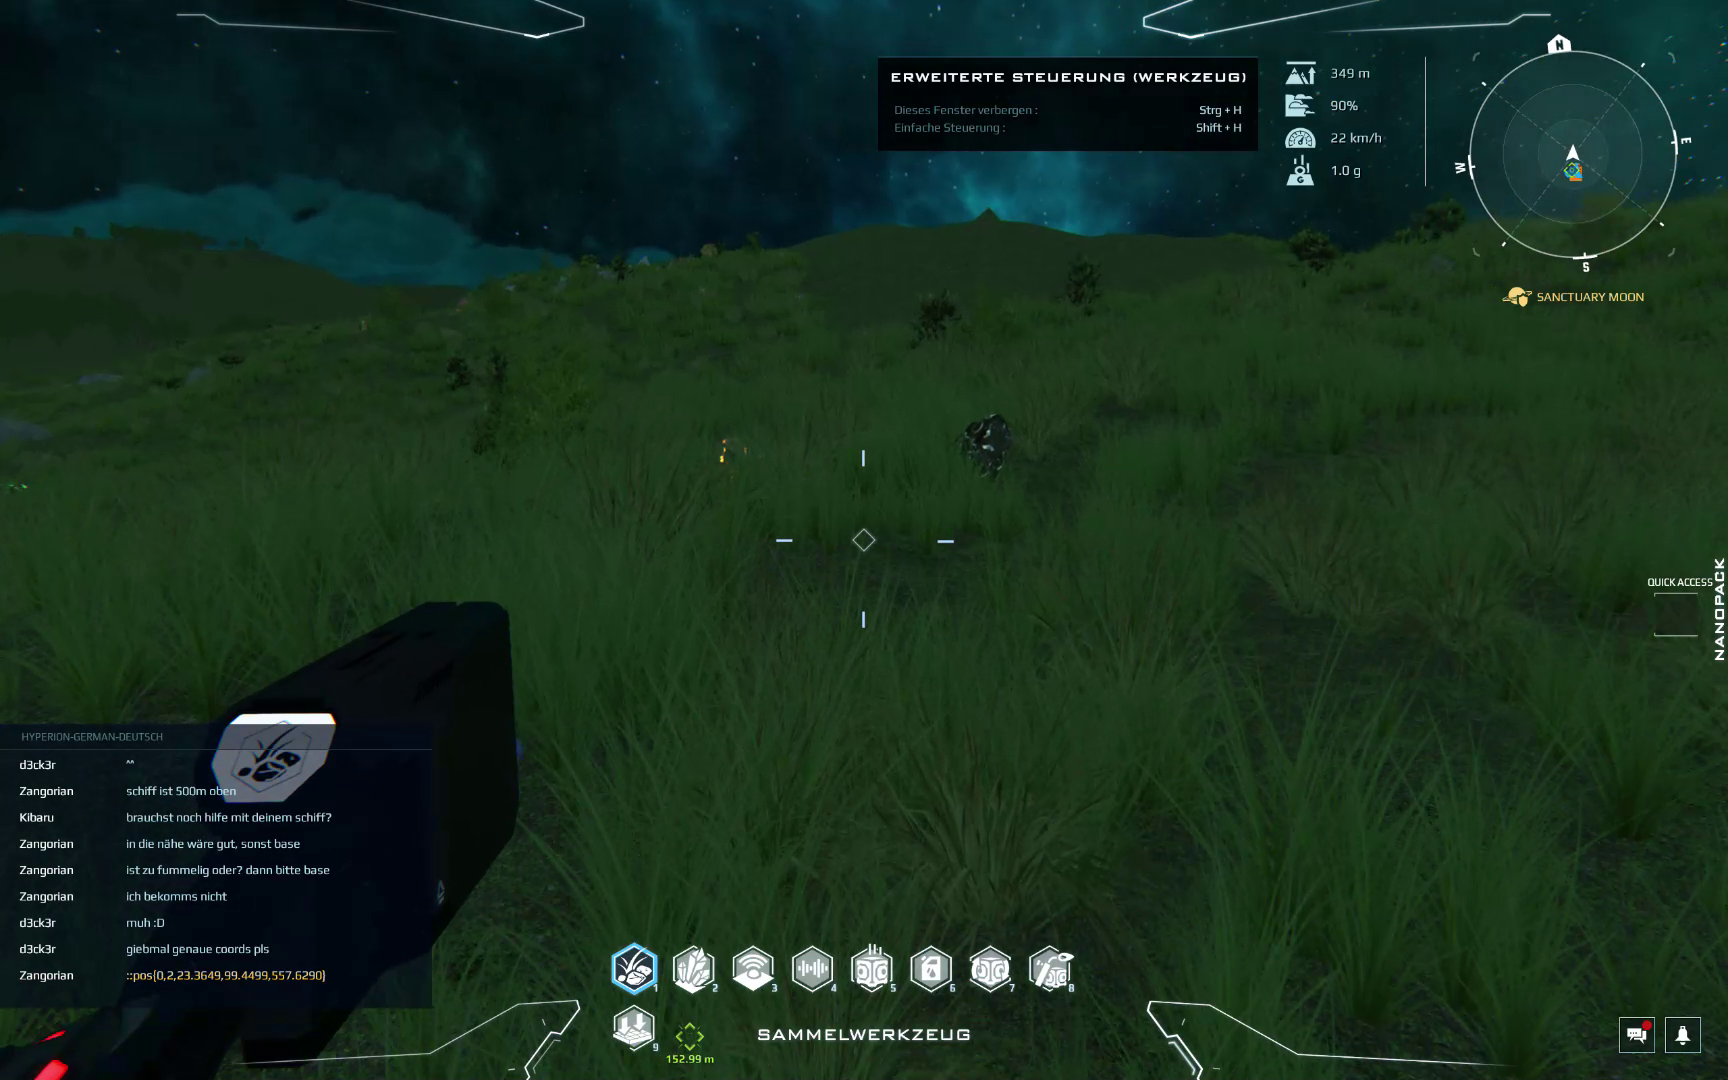Ore: (947, 414, 1010, 480), (709, 433, 753, 478)
